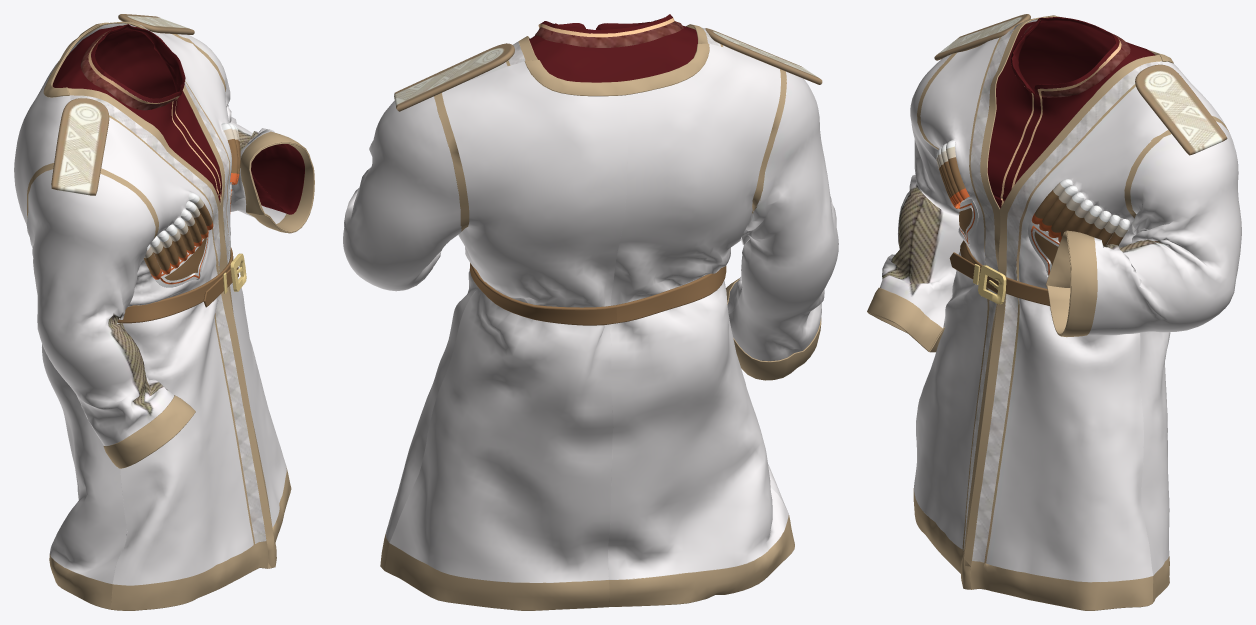
Rendered from COSSACK_CAMISOLE_4#10.glb.
The picture shows the model from 3 angles, left to right: view 1: azimuth 30°, elevation 25°; view 2: azimuth 150°, elevation 25°; view 3: azimuth 270°, elevation 25°; orthographic projection. The views are drawn at different scales.
Parts seen in each view (by area): view 1: kazax_verx_4_lev; view 2: kazax_verx_4_lev; view 3: kazax_verx_4_lev.
Boxes of the visible parts, x1,y1,x2,y2 form: kazax_verx_4_lev: [14, 14, 314, 610]; kazax_verx_4_lev: [343, 14, 838, 610]; kazax_verx_4_lev: [867, 14, 1241, 610].
Size of the model in its own units: 4.55 by 6.75 by 4.5.
Materials: 1 (1 with a texture image).
